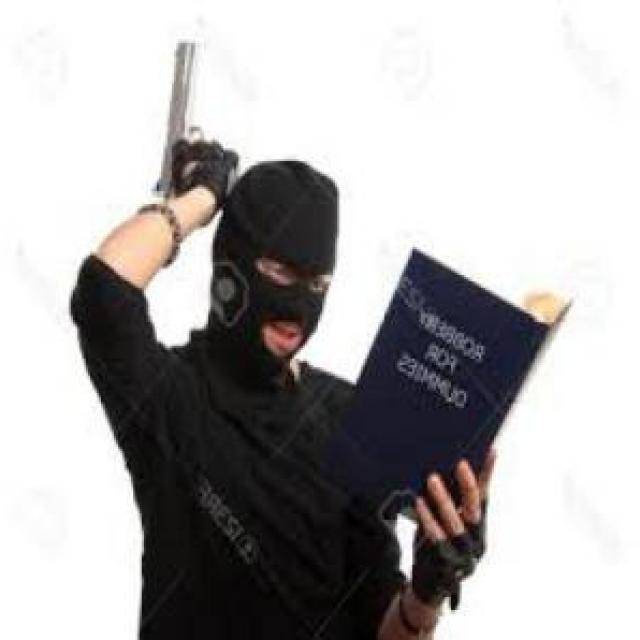pistol: (152, 36, 238, 212)
